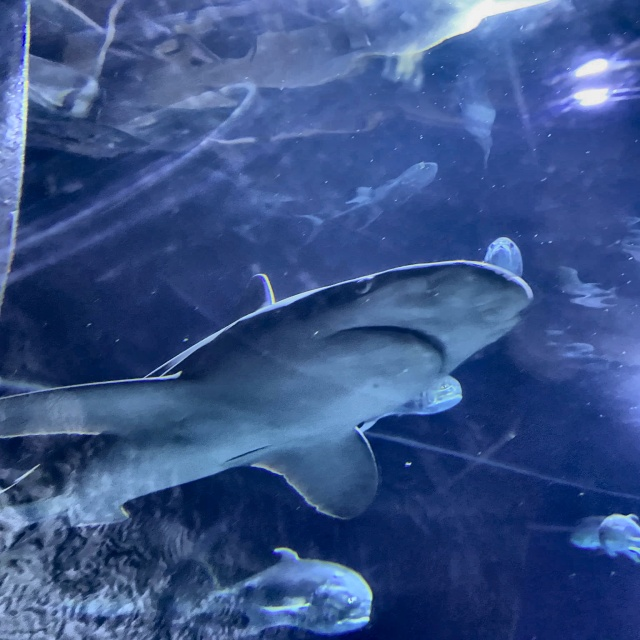fish: (198, 548, 371, 638), (569, 512, 639, 562), (485, 236, 522, 280)
shark: (0, 260, 532, 533)
